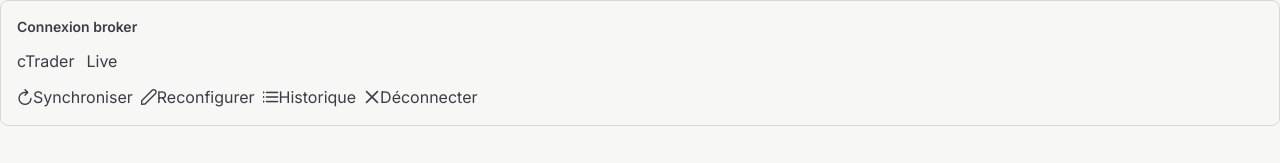
Test case: BrokerConnectionPanel › non-blocking sync › reports the import once the scheduler has finished the run
Click the button "Synchroniser" at (75, 97), box left=17, top=85, right=133, bottom=109
Wait 10000 ms
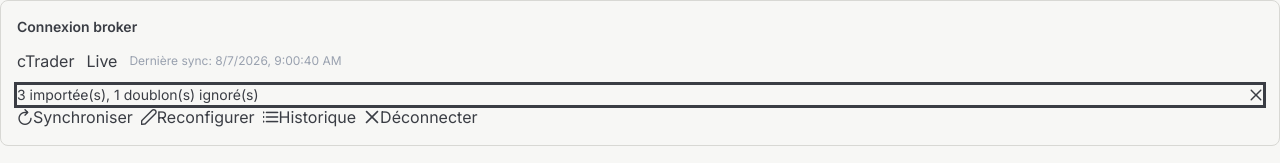
Now the text "3" is shown, box left=17, top=86, right=258, bottom=103
